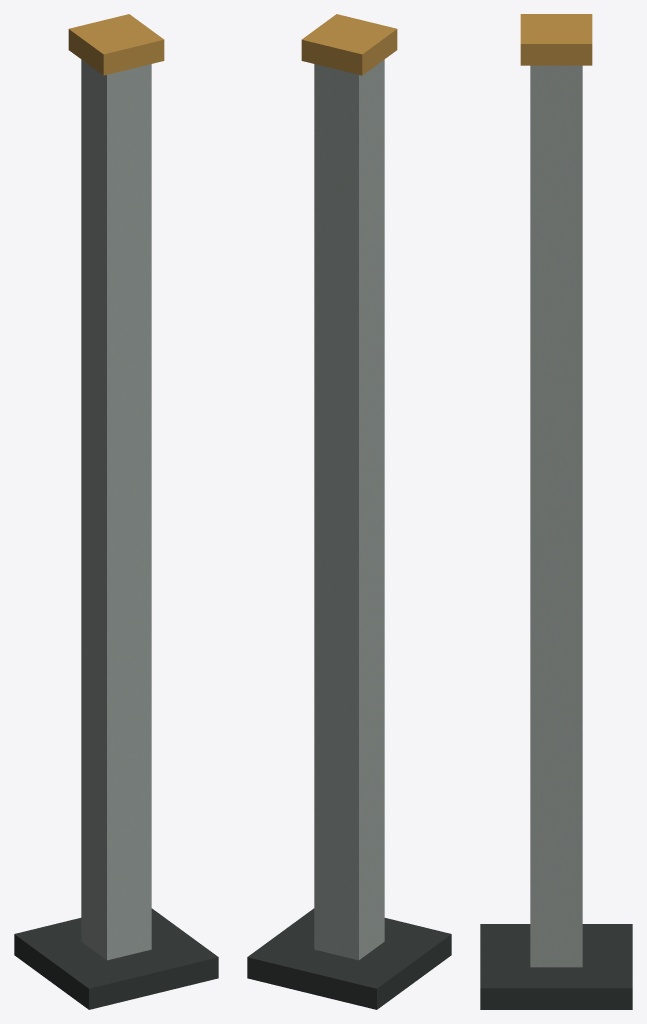
File: railing-end.glb
3 renders of one model, left to right at view 1: azimuth 30°, elevation 25°; view 2: azimuth 150°, elevation 25°; view 3: azimuth 270°, elevation 25°, orthographic.
Parts seen in each view (by area): view 1: post_stem, post_base, post_cap; view 2: post_stem, post_base, post_cap; view 3: post_stem, post_base, post_cap.
Part boxes in pixels (bbox=[...]): post_stem: bbox=[81, 59, 151, 960]; post_base: bbox=[14, 908, 218, 1009]; post_cap: bbox=[68, 14, 164, 75]; post_stem: bbox=[314, 59, 384, 960]; post_base: bbox=[247, 908, 451, 1009]; post_cap: bbox=[301, 14, 397, 75]; post_stem: bbox=[530, 65, 582, 967]; post_base: bbox=[480, 924, 632, 1009]; post_cap: bbox=[520, 14, 592, 65].
Bounding box in the file's own units: 0.16 × 1.1 × 0.16.
Materials: 3 (3 with a texture image).
